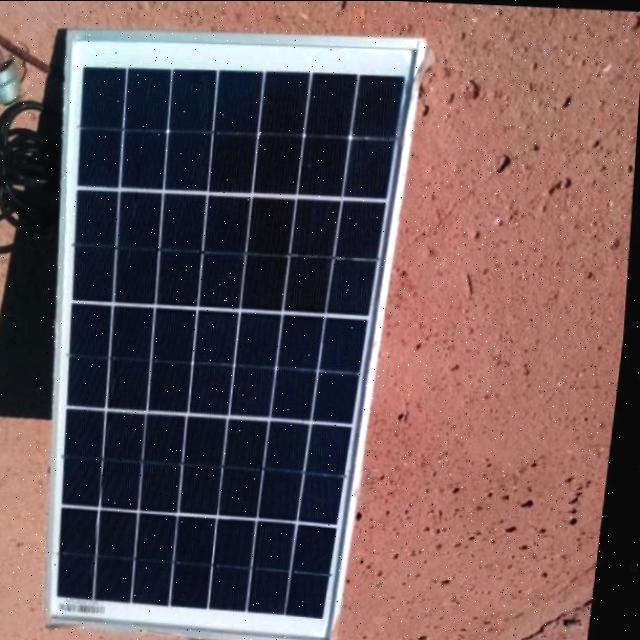Normal Solar Panel: (8, 22, 420, 640)
